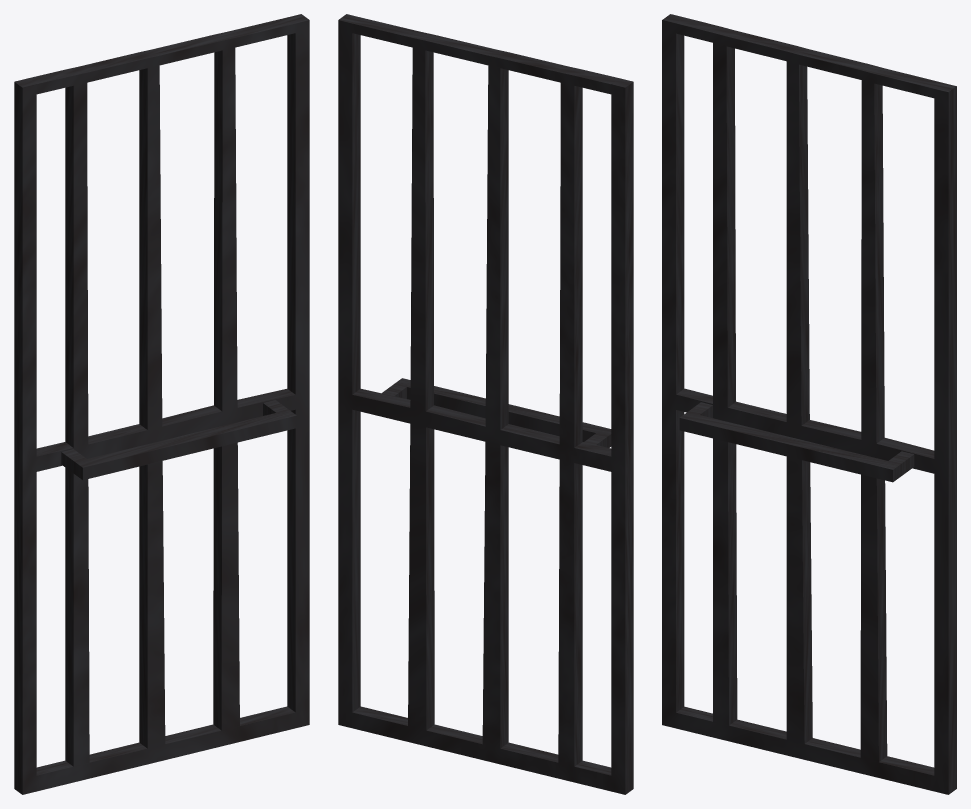
The model's file is door_bars.fbx.
3 renders of one model, left to right at view 1: azimuth 30°, elevation 25°; view 2: azimuth 150°, elevation 25°; view 3: azimuth 330°, elevation 25°, orthographic.
Parts seen in each view (by area): view 1: dvere mrize; view 2: dvere mrize; view 3: dvere mrize.
Boxes of the visible parts, <box> form: dvere mrize: <box>14,14,309,794</box>; dvere mrize: <box>338,14,633,794</box>; dvere mrize: <box>662,14,956,794</box>.
Bounding box in the file's own units: 94.55 × 222 × 16.95.
